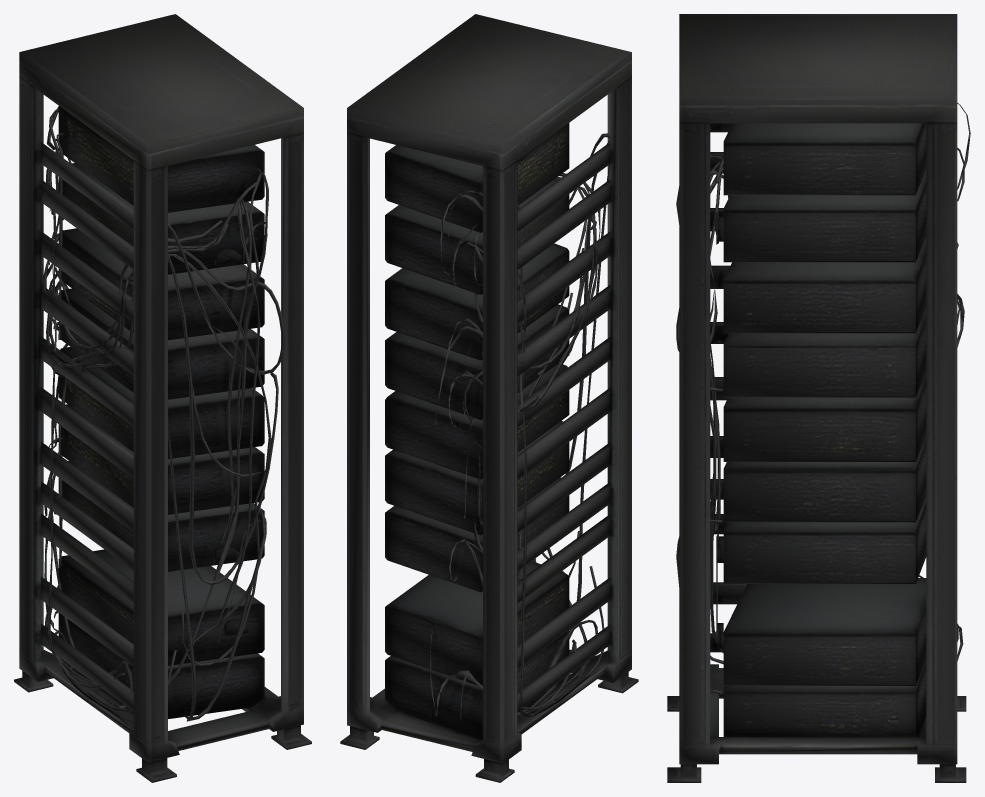
The model's file is selected.glb.
3 views of the same model, side by side, from view 1: azimuth 30°, elevation 25°; view 2: azimuth 150°, elevation 25°; view 3: azimuth 270°, elevation 25° (orthographic). The views are drawn at different scales.
Visible parts, largest first — view 1: tripo_node_645a9e4f-7f79-41d7-a1de-99b5fa8c815e; view 2: tripo_node_645a9e4f-7f79-41d7-a1de-99b5fa8c815e; view 3: tripo_node_645a9e4f-7f79-41d7-a1de-99b5fa8c815e.
Part boxes in pixels (x1,y1,x2,y2): tripo_node_645a9e4f-7f79-41d7-a1de-99b5fa8c815e: (14,14,311,782); tripo_node_645a9e4f-7f79-41d7-a1de-99b5fa8c815e: (340,14,638,782); tripo_node_645a9e4f-7f79-41d7-a1de-99b5fa8c815e: (667,14,970,782).
Bounding box in the file's own units: 0.2637 × 0.998 × 0.4004.
1 material, 1 textured.
